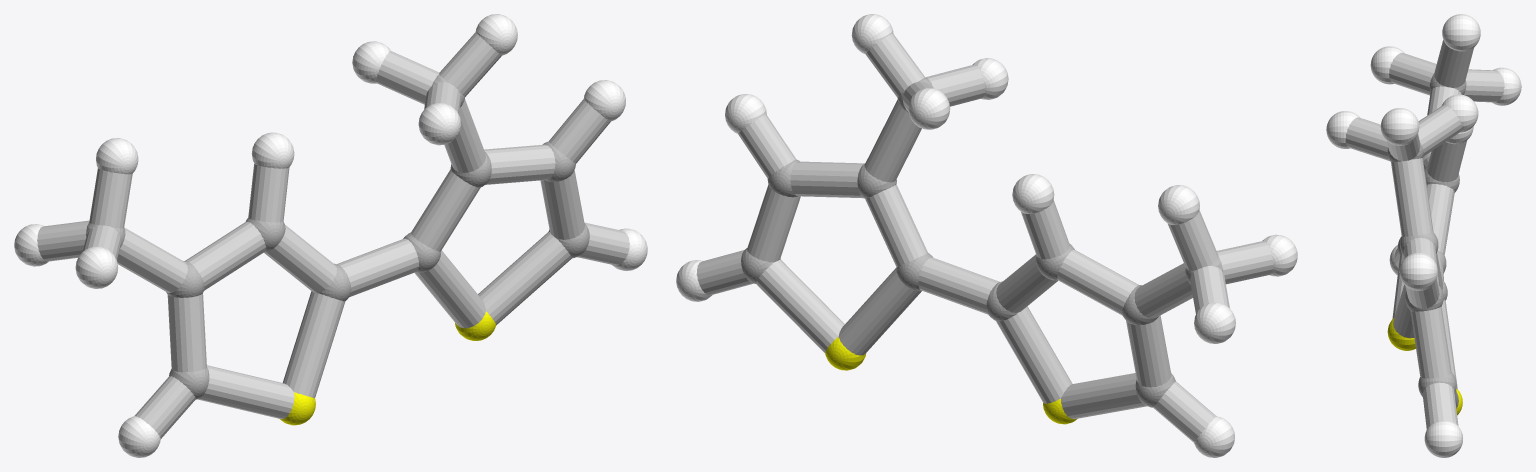
The model's file is color.glb.
3 renders of one model, left to right at view 1: azimuth 30°, elevation 25°; view 2: azimuth 150°, elevation 25°; view 3: azimuth 270°, elevation 25°, orthographic. The views are drawn at different scales.
Visible parts, largest first — view 1: grp7965, grp3621, grp1, grp7241; view 2: grp7965, grp3621, grp1, grp7241; view 3: grp7965, grp3621, grp1, grp7241.
Boxes of the visible parts, left/top/right/bottom form: grp7965: left=37, top=32, right=629, bottom=438; grp3621: left=14, top=14, right=647, bottom=457; grp1: left=86, top=74, right=589, bottom=399; grp7241: left=280, top=311, right=496, bottom=425; grp7965: left=696, top=33, right=1273, bottom=442; grp3621: left=676, top=14, right=1297, bottom=457; grp1: left=741, top=77, right=1223, bottom=407; grp7241: left=825, top=337, right=1077, bottom=424; grp7965: left=1345, top=40, right=1504, bottom=429; grp3621: left=1326, top=14, right=1521, bottom=457; grp1: left=1387, top=74, right=1466, bottom=396; grp7241: left=1387, top=317, right=1462, bottom=414.
Size of the model in its own units: 9.68 by 5.61 by 3.04.
